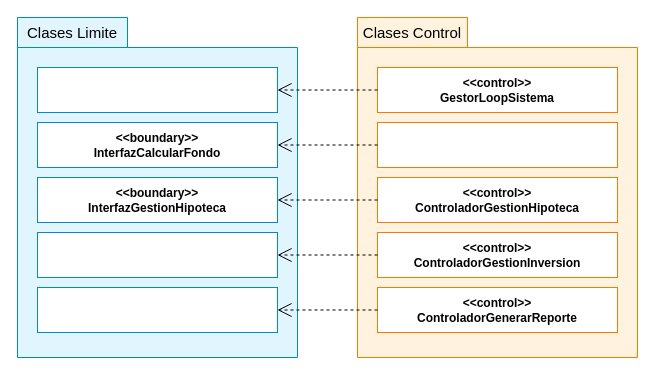
Image size: 655x375. Some labels were removed from this diagram. The shapes that lost their labels are listed below. From the top down, each one's centre as x and y in pixels, then its label:
the point at 157,89: <<boundary>> PantallaMenuPrincipal
the point at 497,145: <<control>> ControladorCalculoFondo
the point at 157,255: <<boundary>> InterfazGestionInversion
the point at 157,309: <<boundary>> InterfazImpresionReporte
